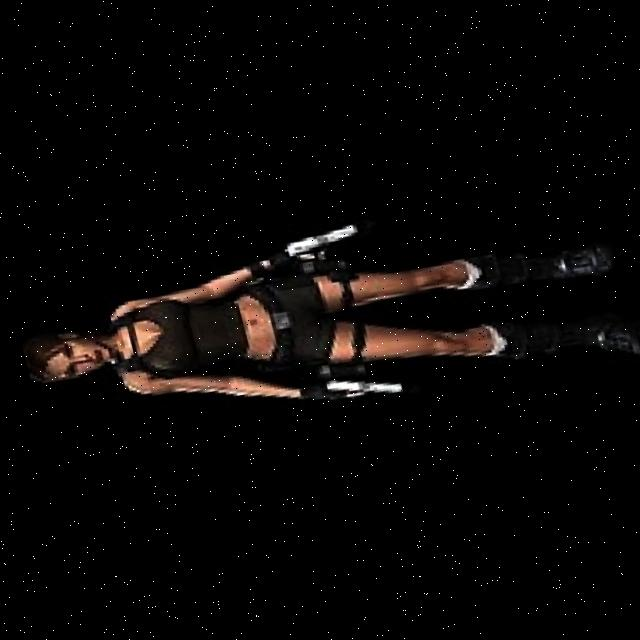firearm: (271, 216, 363, 260), (322, 365, 400, 405)
